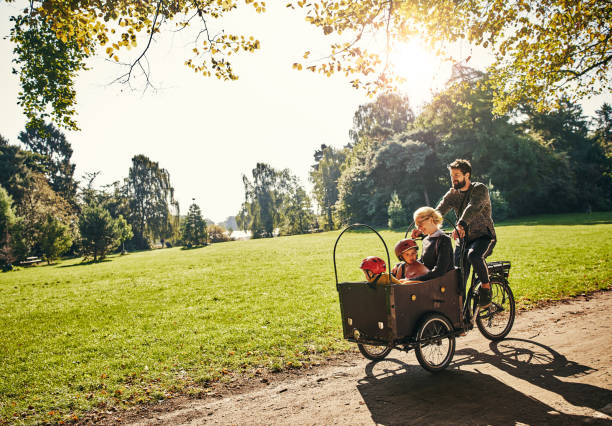without mask: (449, 160, 472, 189), (398, 246, 419, 264), (412, 216, 433, 234), (361, 263, 378, 283)
